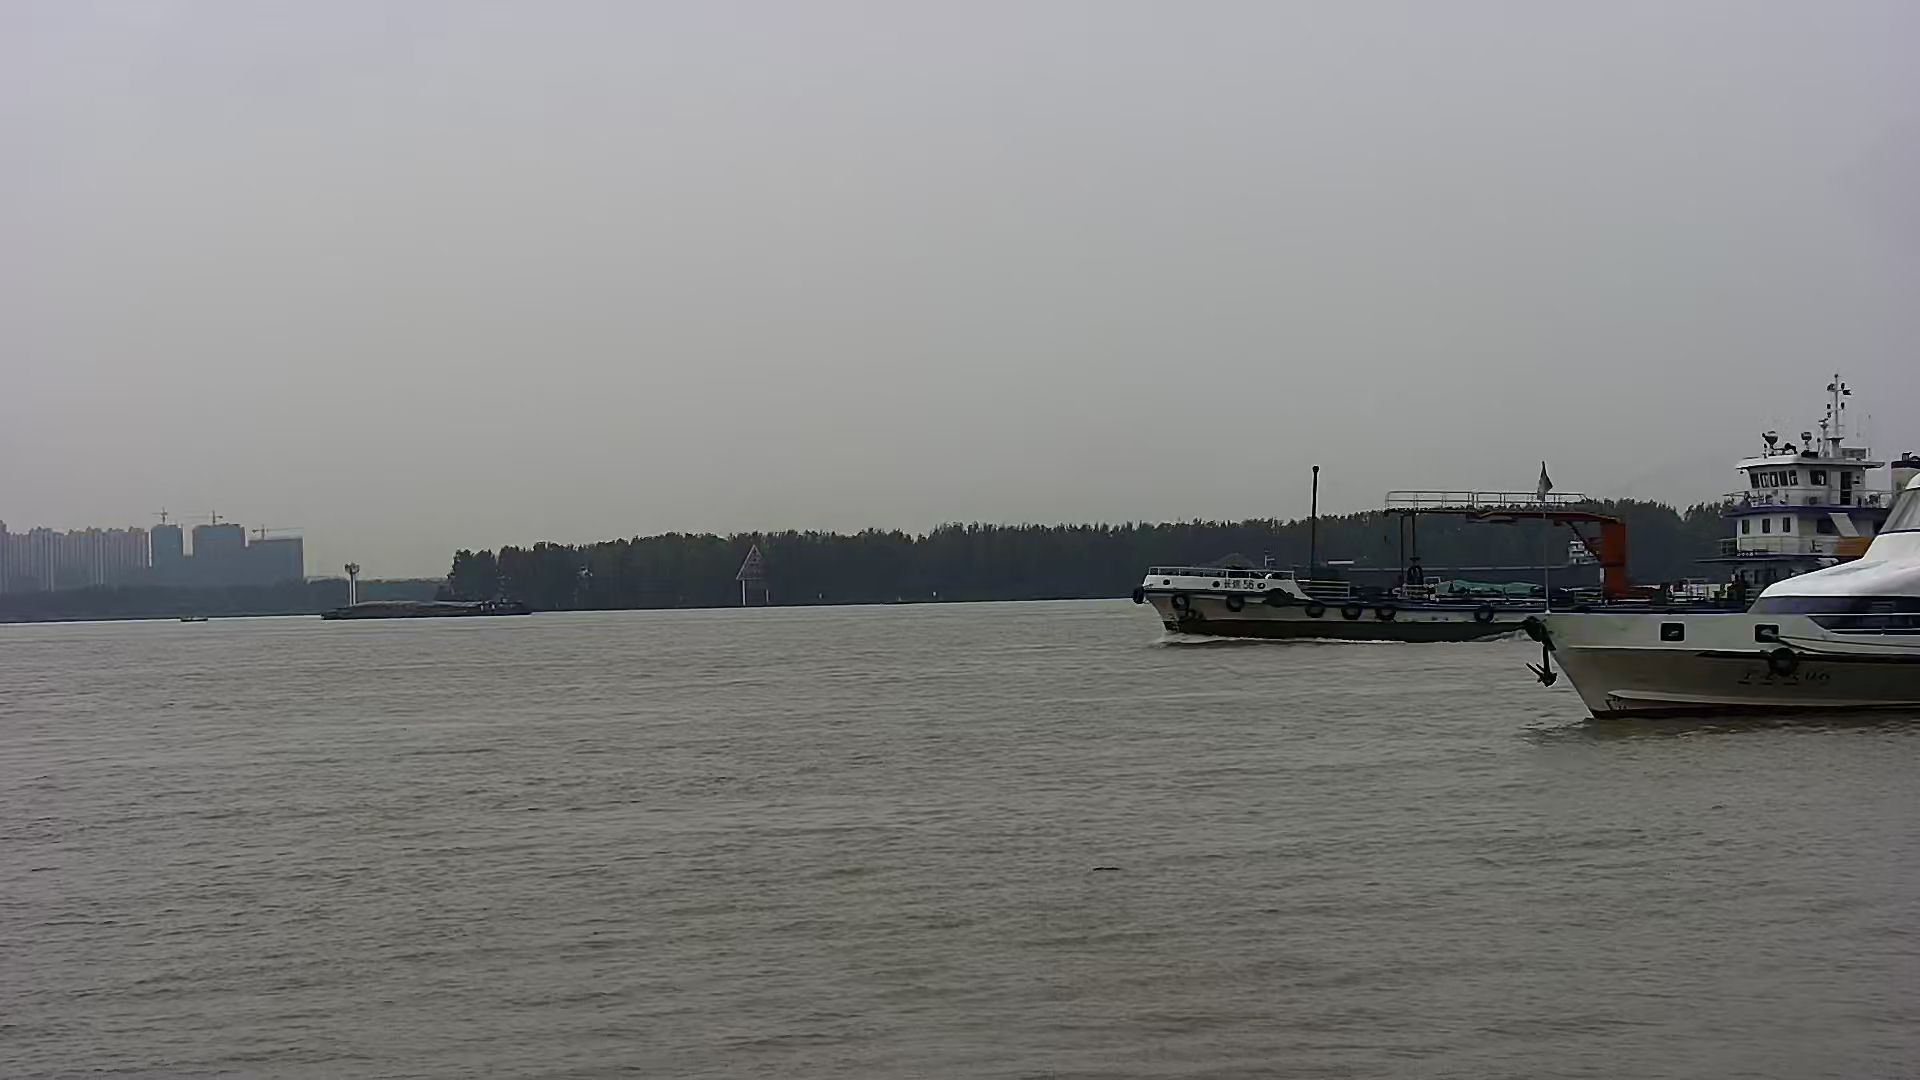ship: (1131, 434, 1920, 644), (1527, 451, 1920, 716), (322, 568, 535, 617)
